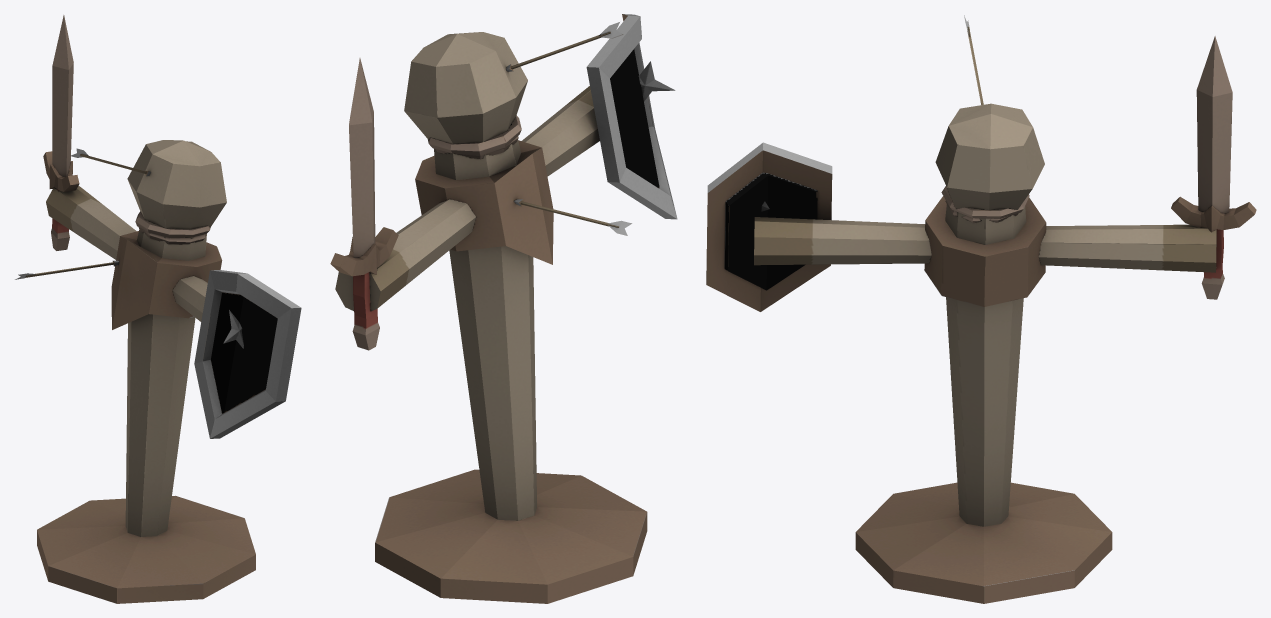
The model's file is dummy.fbx.
3 views of the same model, side by side, from view 1: azimuth 30°, elevation 25°; view 2: azimuth 150°, elevation 25°; view 3: azimuth 270°, elevation 25° (orthographic). The views are drawn at different scales.
Parts seen in each view (by area): view 1: pTorus2; view 2: pTorus2; view 3: pTorus2.
Part boxes in pixels (bbox=[...]): pTorus2: bbox=[15, 15, 301, 603]; pTorus2: bbox=[330, 14, 677, 603]; pTorus2: bbox=[706, 15, 1256, 603].
Size of the model in its own units: 1.19 by 2.5 by 2.37.
